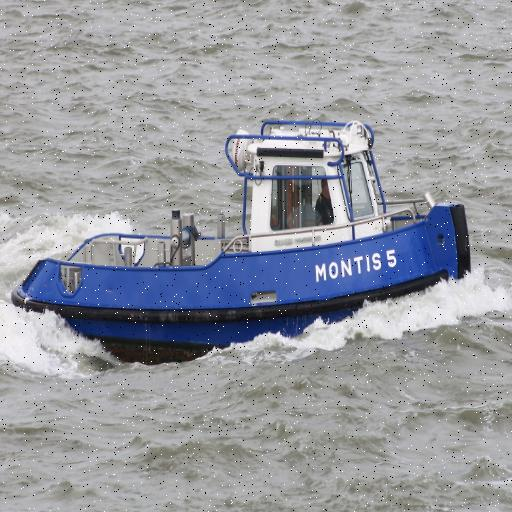tugboat: (8, 116, 480, 383)
